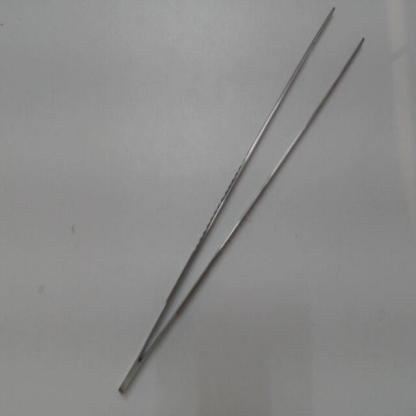DeBakey Dissector: (105, 0, 380, 402)
